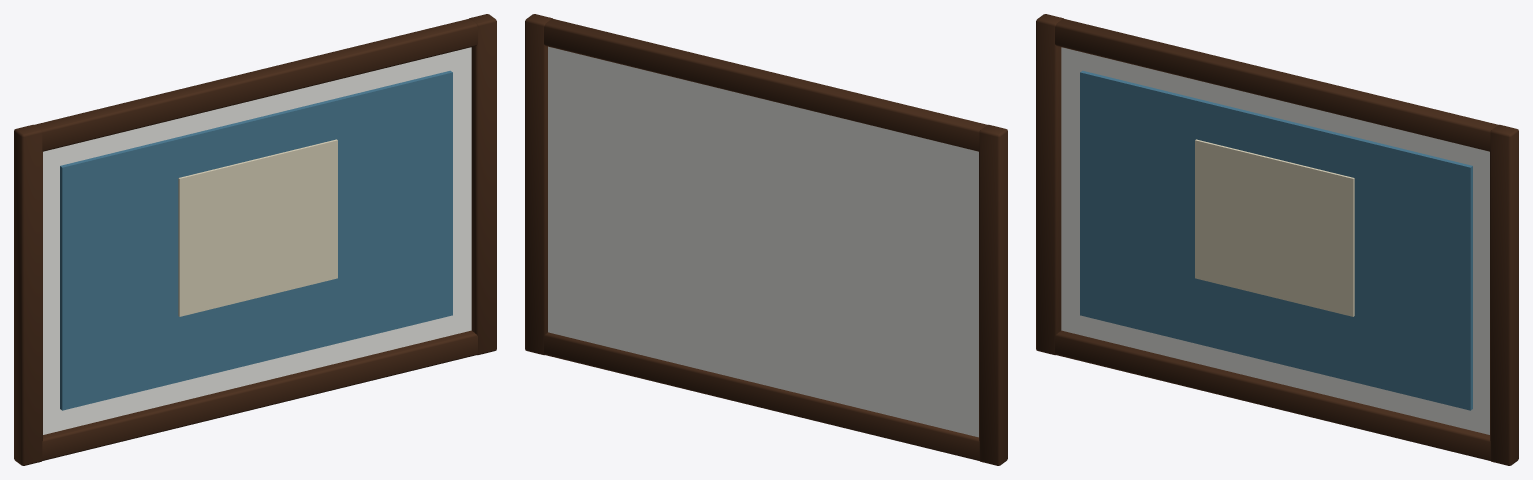
The model's file is Frame_Landscape.glb.
3 renders of one model, left to right at view 1: azimuth 30°, elevation 25°; view 2: azimuth 150°, elevation 25°; view 3: azimuth 330°, elevation 25°, orthographic.
Parts seen in each view (by area): view 1: Frame_Landscape; view 2: Frame_Landscape; view 3: Frame_Landscape.
Part boxes in pixels (x1=…): Frame_Landscape: x1=14, y1=14, x2=496, y2=465; Frame_Landscape: x1=525, y1=14, x2=1007, y2=465; Frame_Landscape: x1=1036, y1=14, x2=1518, y2=465.
Size of the model in its own units: 0.901 by 0.601 by 0.031.
